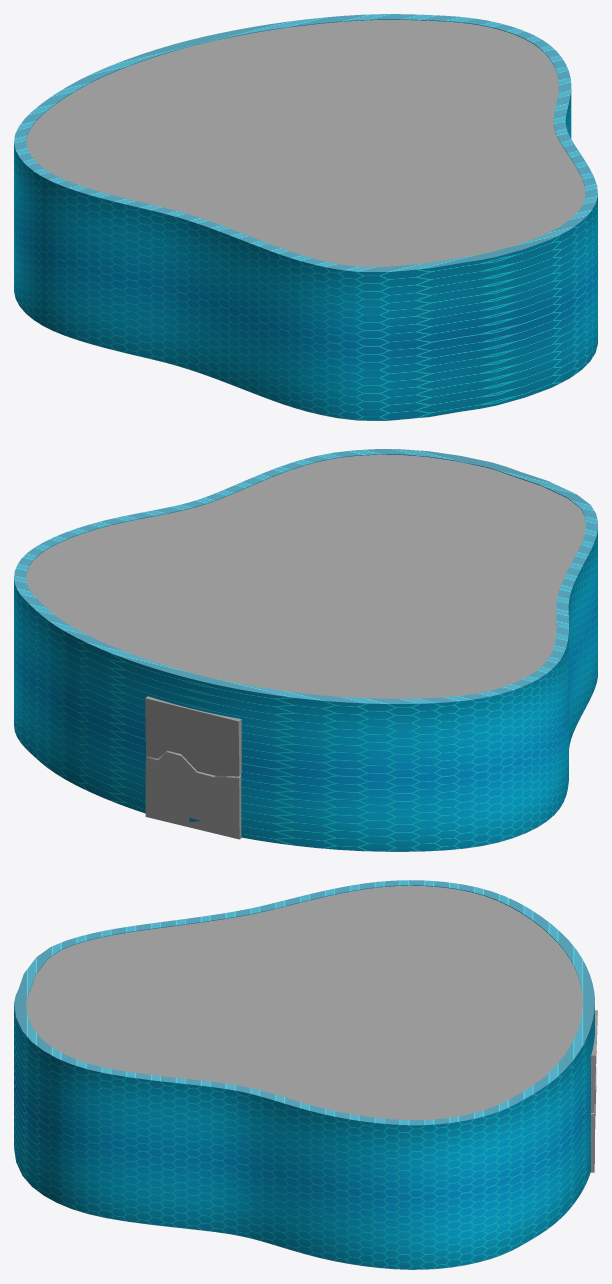
The model's file is NoWindowsRoomSpeciaalVoorLisa.fbx.
3 views of the same model, one above another, from view 1: azimuth 30°, elevation 25°; view 2: azimuth 150°, elevation 25°; view 3: azimuth 270°, elevation 25° (orthographic). The views are drawn at different scales.
Parts seen in each view (by area): view 1: RoofFacingTop, Walls2; view 2: RoofFacingTop, Walls2, FrontTopDoor1, FrontTopDoor2; view 3: RoofFacingTop, Walls2.
Boxes of the visible parts, x1=… form: RoofFacingTop: x1=26, y1=20, x2=585, y2=266; Walls2: x1=14, y1=14, x2=597, y2=420; RoofFacingTop: x1=26, y1=454, x2=585, y2=698; Walls2: x1=14, y1=449, x2=597, y2=851; FrontTopDoor1: x1=145, y1=751, x2=241, y2=839; FrontTopDoor2: x1=145, y1=696, x2=241, y2=776; RoofFacingTop: x1=26, y1=885, x2=582, y2=1119; Walls2: x1=14, y1=880, x2=594, y2=1269.
Size of the model in its own units: 0.4844 by 0.1346 by 0.4879.
Materials: 3 (1 with a texture image).
